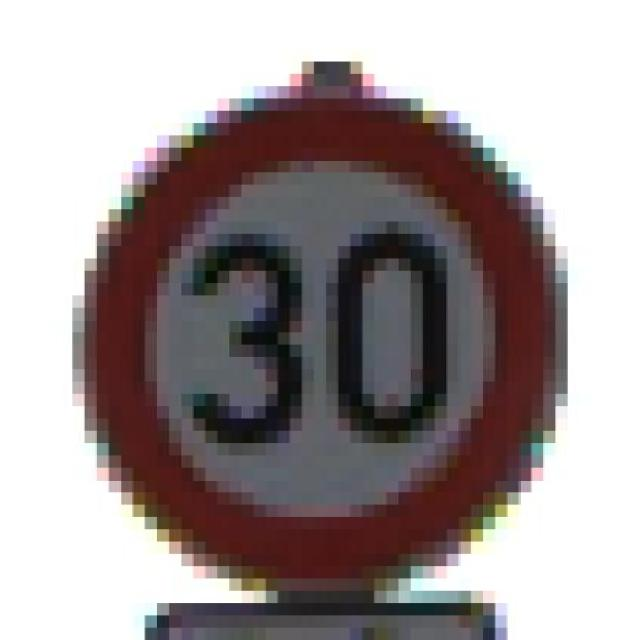Speed Limit 30 KMPh: (60, 62, 628, 603)
